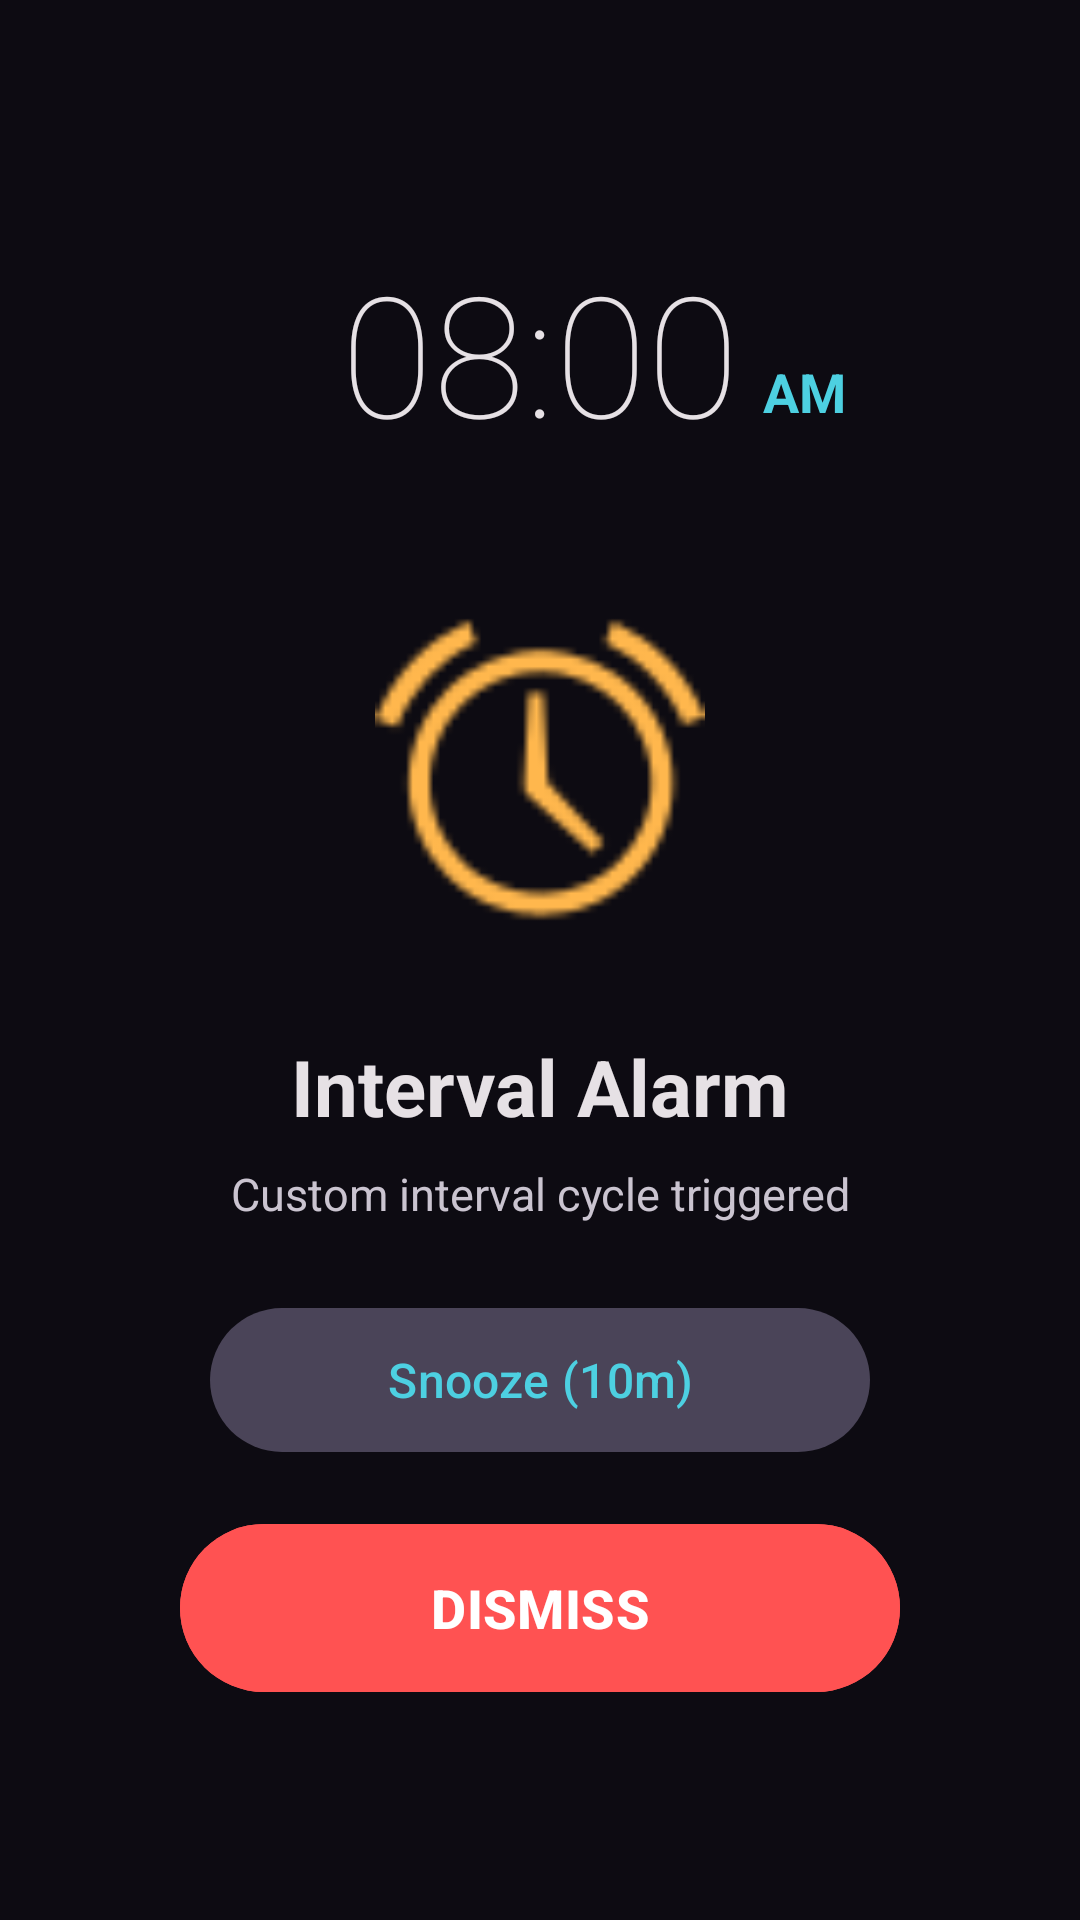

Screen size 1080px×1920px. Icon name, then its box in pixels as [x1=x1, y1=y1, x2=x2, y2=y2]:
lock idle alarm: [x1=375, y1=619, x2=705, y2=920]
